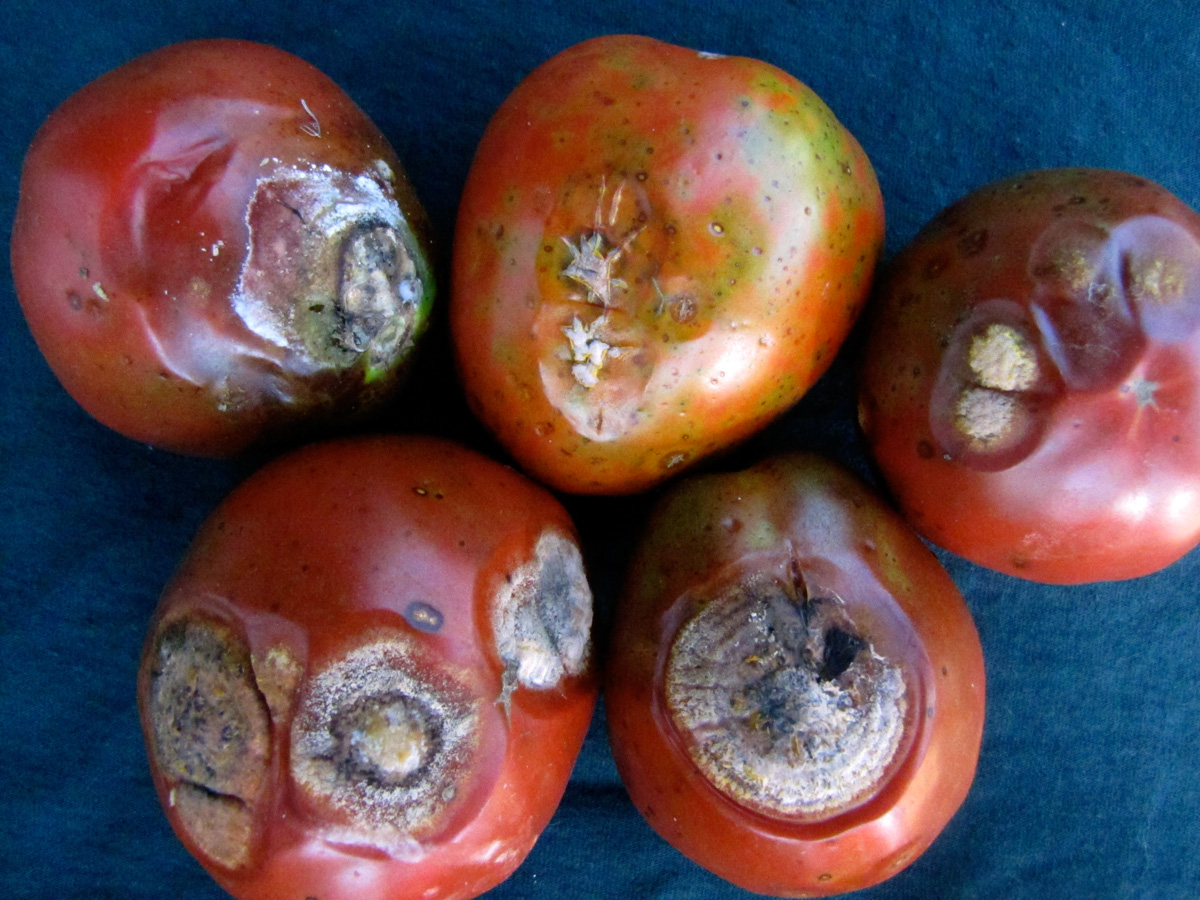anthracnose: (168, 600, 515, 864), (659, 542, 944, 839), (524, 171, 732, 450), (210, 166, 451, 382), (925, 288, 1071, 486)
